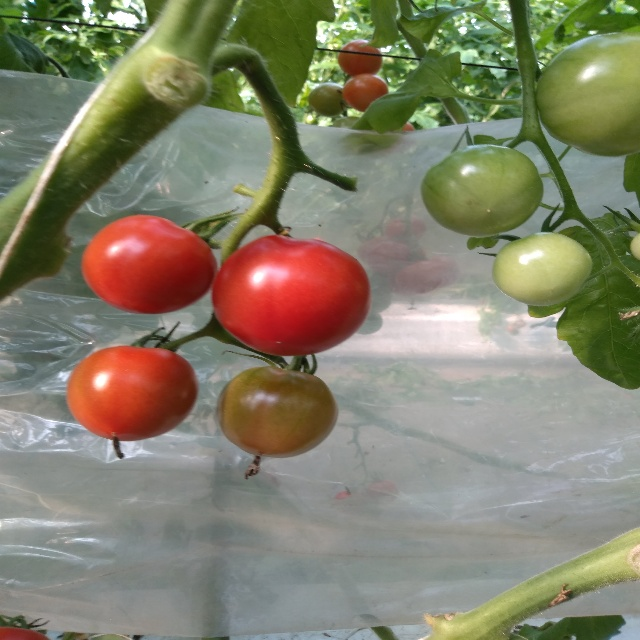l_fully_ripened: (210, 235, 372, 357), (81, 215, 219, 314), (64, 345, 199, 442)
l_green: (534, 31, 639, 157), (420, 143, 544, 239), (492, 232, 591, 306), (308, 83, 351, 117)
l_half_ripened: (214, 366, 340, 458), (343, 74, 389, 112), (337, 40, 382, 77)
